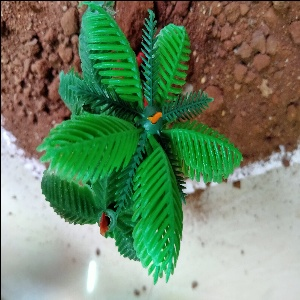plant: (37, 2, 249, 288)
